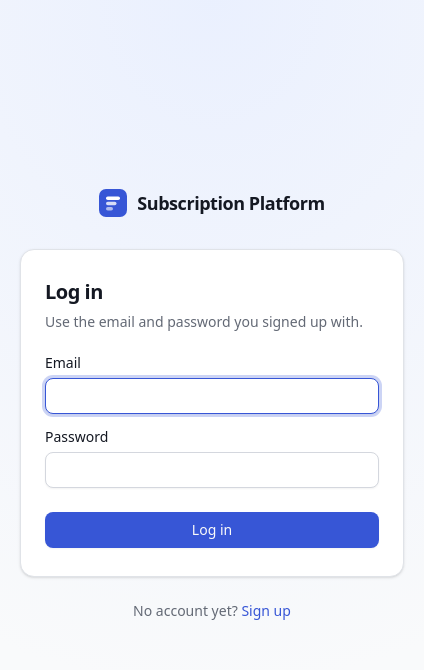
Test: auth › shows one message for a wrong email or password
Type "staff@example.com" into the field labelled "Email" at (212, 396), box [45,378,379,414]
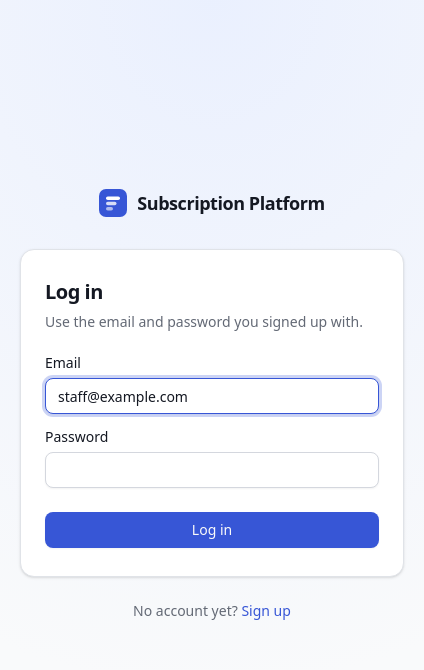
Type "wrong" into the password field labelled "Password" at (212, 470), box [45,452,379,488]
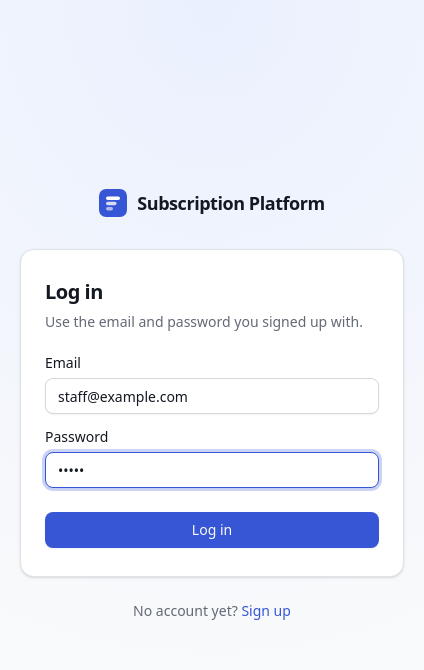
Click the button "Log in" at (212, 530), box [45,512,379,548]
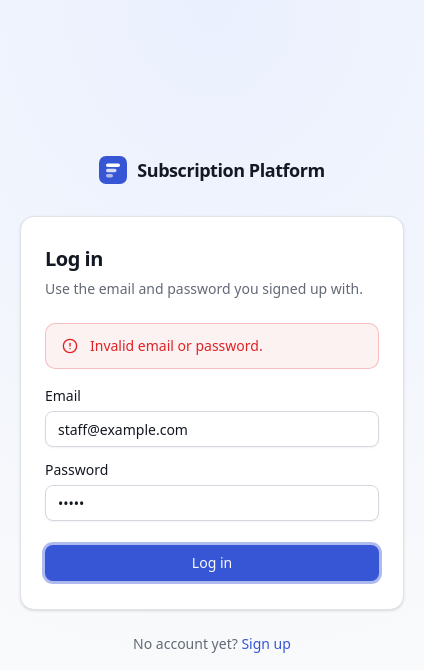
expect the text "Invalid email or password." is shown: met, box [90,336,263,356]
